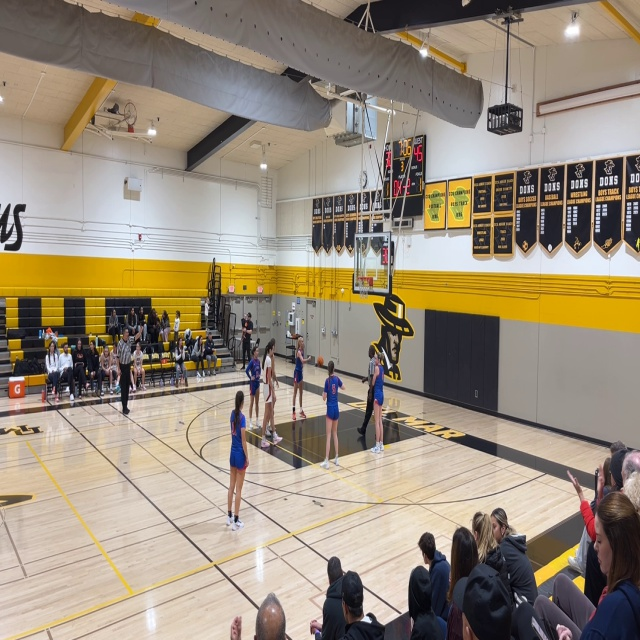Basketball: (316, 356, 323, 366)
